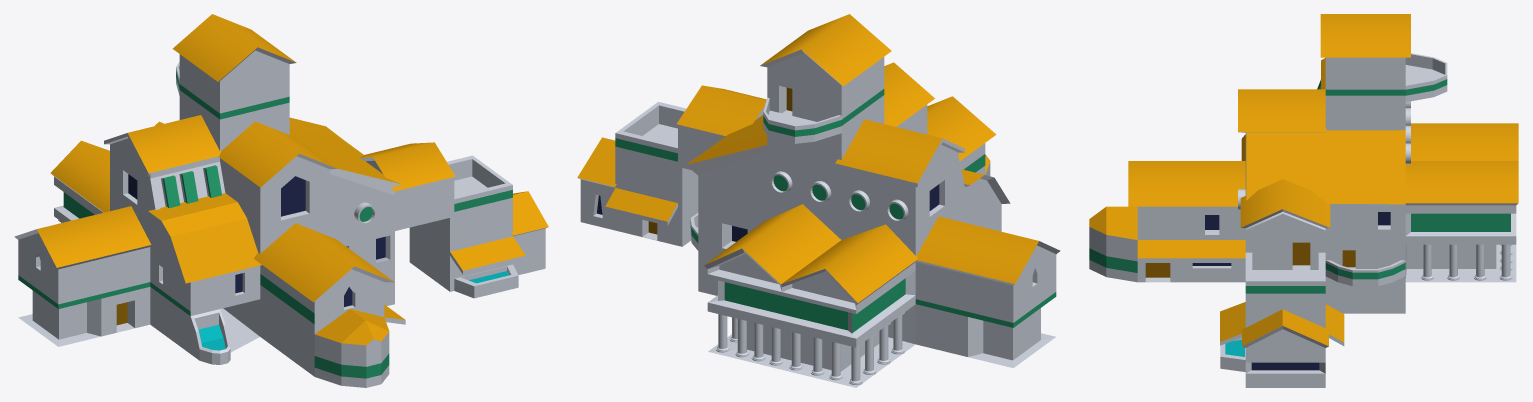
File: NeighborhoodBlock.fbx
The picture shows the model from 3 angles, left to right: view 1: azimuth 30°, elevation 25°; view 2: azimuth 150°, elevation 25°; view 3: azimuth 270°, elevation 25°; orthographic projection. The views are drawn at different scales.
Visible parts, largest first — view 1: pCylinder288; view 2: pCylinder288; view 3: pCylinder288.
Boxes of the visible parts, bbox=[...] form: pCylinder288: bbox=[14, 14, 548, 387]; pCylinder288: bbox=[577, 14, 1060, 387]; pCylinder288: bbox=[1089, 14, 1518, 387].
Size of the model in its own units: 8.46 by 4.56 by 7.02.
